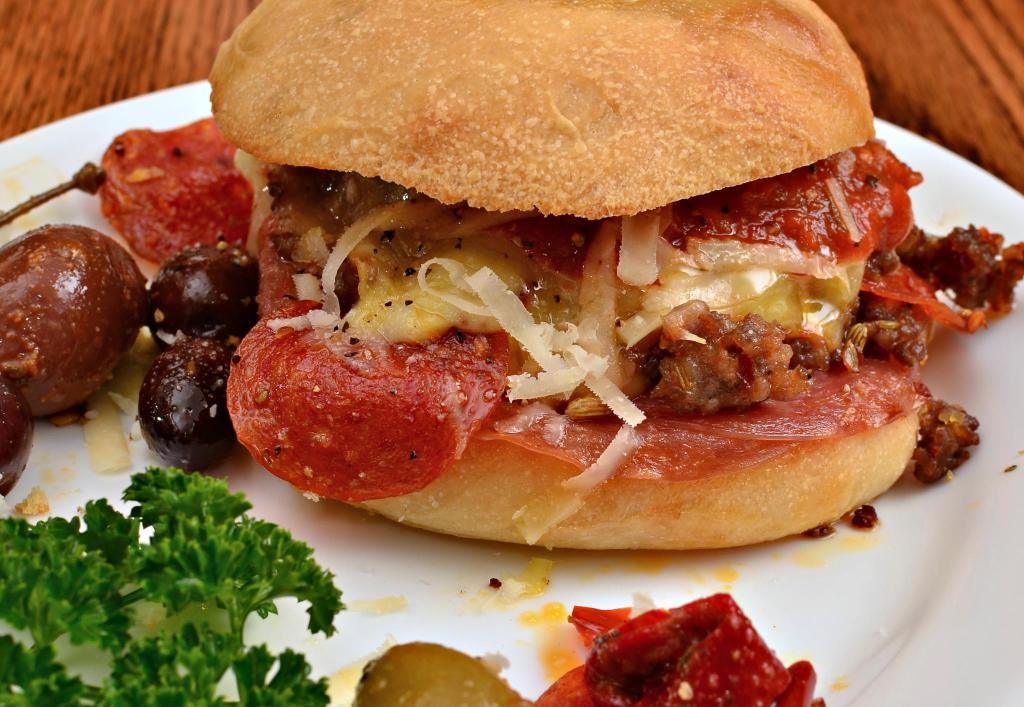Hamburger: (208, 0, 1023, 550)
